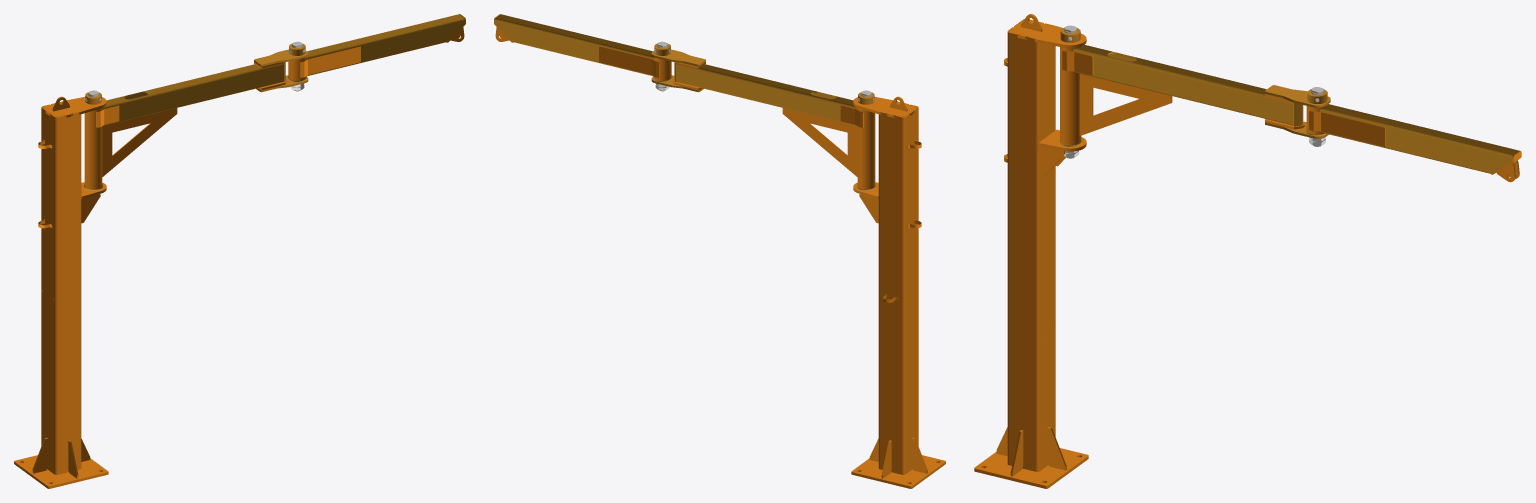
Rendered from aardwolf_all_part_Articulated Jib Crane-Two Arm.fbx.
3 renders of one model, left to right at view 1: azimuth 30°, elevation 25°; view 2: azimuth 150°, elevation 25°; view 3: azimuth 330°, elevation 25°, orthographic. The views are drawn at different scales.
Parts seen in each view (by area): view 1: aardwolf_all_part_obj034, aardwolf_all_part_obj035; view 2: aardwolf_all_part_obj034, aardwolf_all_part_obj035; view 3: aardwolf_all_part_obj034, aardwolf_all_part_obj035.
Part boxes in pixels (<box>): aardwolf_all_part_obj034: <box>14,101,108,488</box>; aardwolf_all_part_obj035: <box>38,14,465,228</box>; aardwolf_all_part_obj034: <box>851,101,945,488</box>; aardwolf_all_part_obj035: <box>494,14,921,228</box>; aardwolf_all_part_obj034: <box>974,19,1088,488</box>; aardwolf_all_part_obj035: <box>1004,14,1521,182</box>.
Bounding box in the file's own units: 2844 × 2341 × 400.
